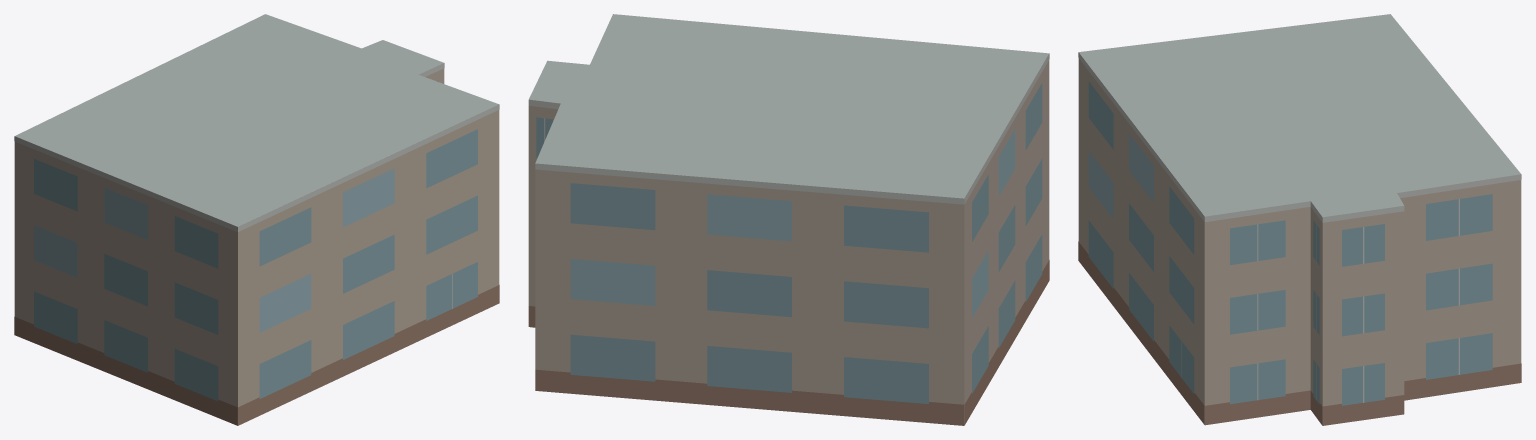
File: survey-upis-33003483.glb
The picture shows the model from 3 angles, left to right: view 1: azimuth 30°, elevation 25°; view 2: azimuth 150°, elevation 25°; view 3: azimuth 270°, elevation 25°; orthographic projection. The views are drawn at different scales.
Parts seen in each view (by area): view 1: survey-upis-33003483.tmp; view 2: survey-upis-33003483.tmp; view 3: survey-upis-33003483.tmp.
Boxes of the visible parts, bbox=[...] form: survey-upis-33003483.tmp: bbox=[14, 14, 499, 425]; survey-upis-33003483.tmp: bbox=[528, 14, 1049, 425]; survey-upis-33003483.tmp: bbox=[1078, 14, 1521, 425].
Bounding box in the file's own units: 19.14 × 9.15 × 17.62.
